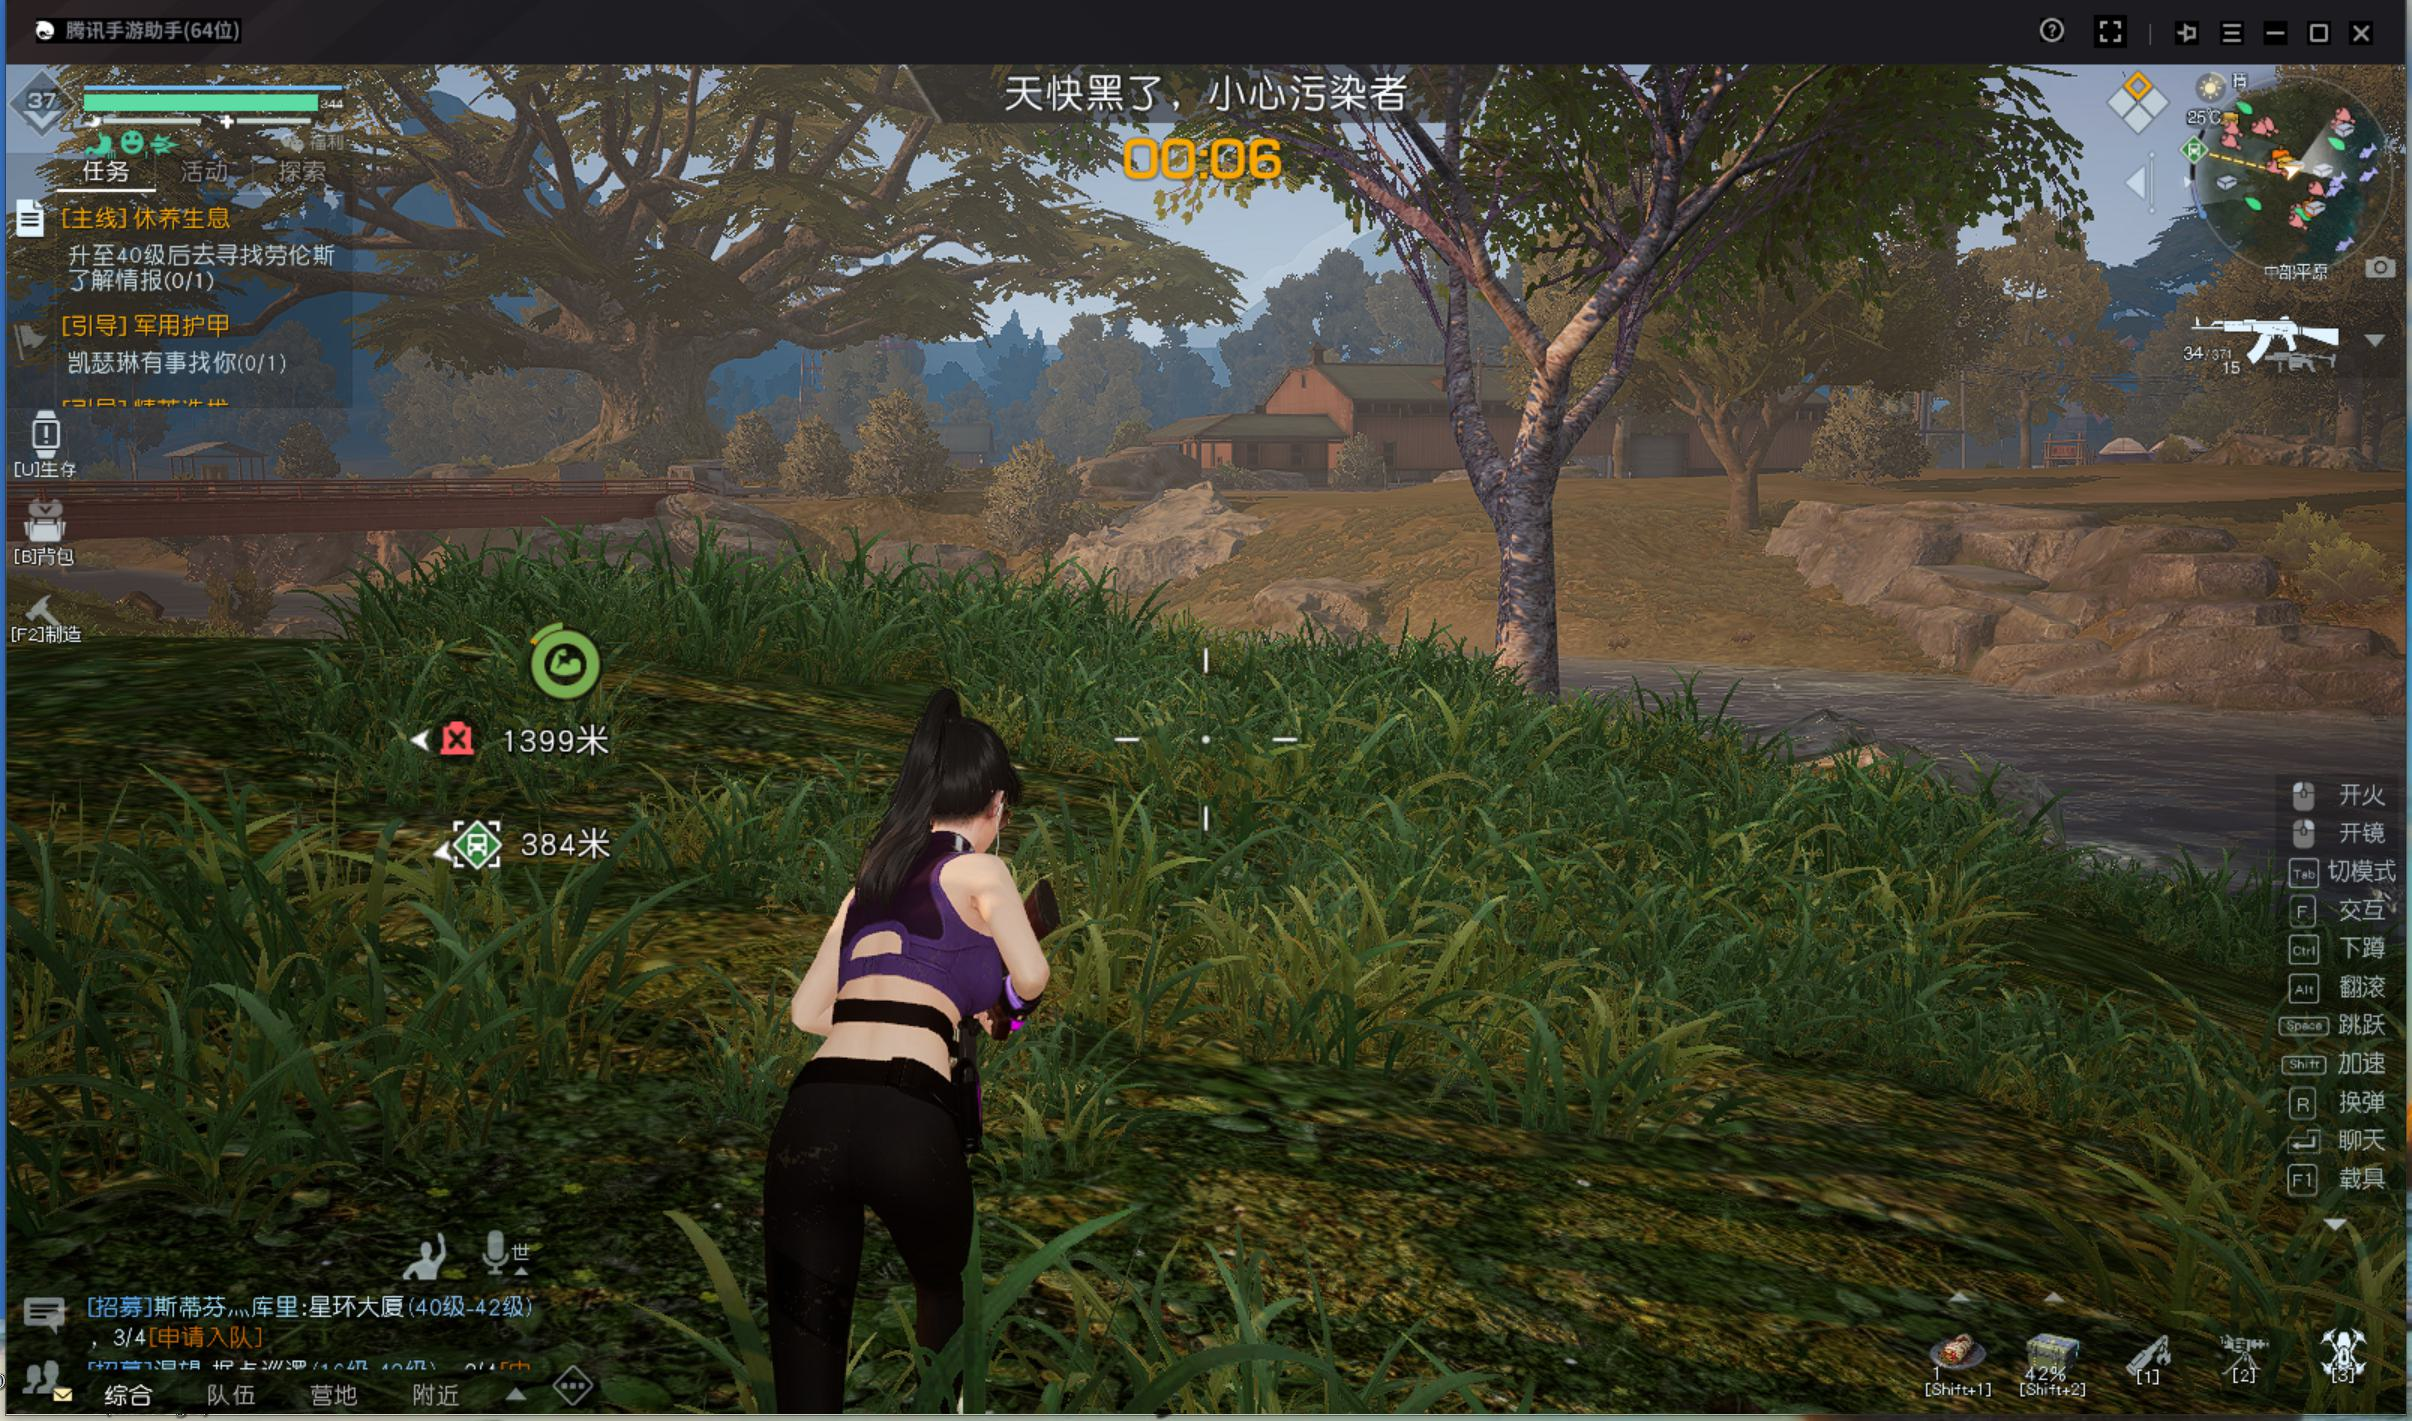tree: (1477, 425, 1582, 716), (1725, 453, 1769, 536)
